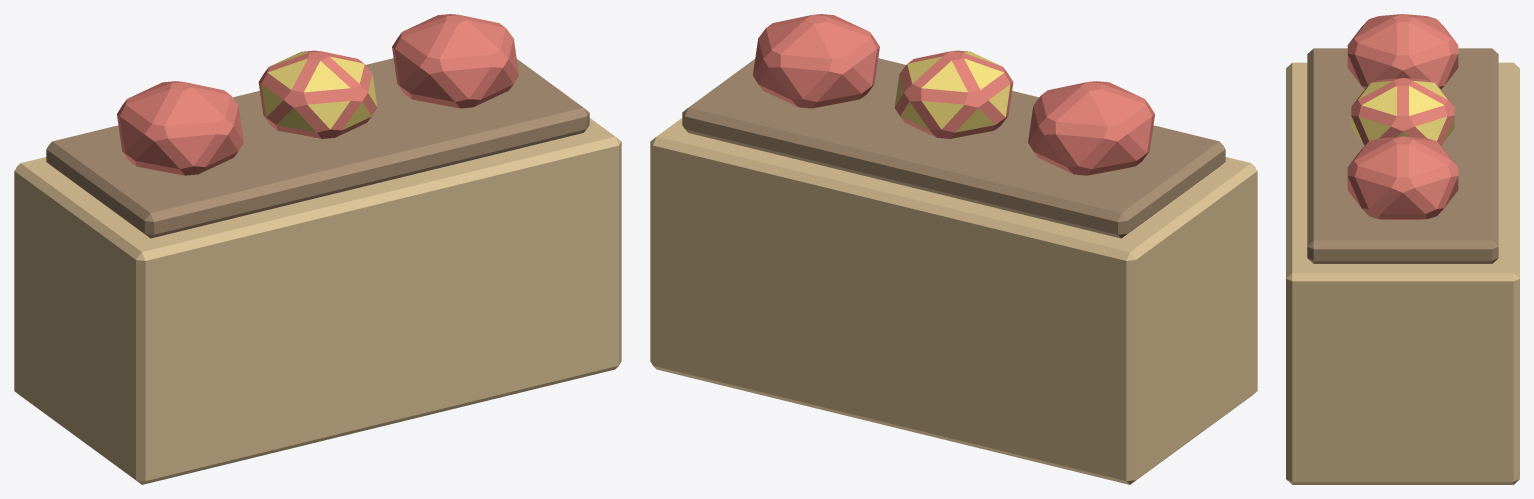
The picture shows the model from 3 angles, left to right: view 1: azimuth 30°, elevation 25°; view 2: azimuth 150°, elevation 25°; view 3: azimuth 270°, elevation 25°; orthographic projection. The views are drawn at different scales.
Parts seen in each view (by area): view 1: 箱体, 填土, 花丛; view 2: 箱体, 填土, 花丛; view 3: 箱体, 填土, 花丛.
Part boxes in pixels (x1,y1,x2,y2): 箱体: (14,118,621,484); 填土: (46,58,589,238); 花丛: (117,14,518,175); 箱体: (650,118,1257,484); 填土: (682,58,1225,238); 花丛: (753,14,1154,175); 箱体: (1286,62,1519,484); 填土: (1307,48,1498,263); 花丛: (1347,14,1458,219).
Bounding box in the file's own units: 120 × 77.89 × 55.
